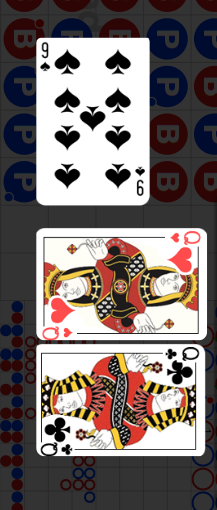9S: (134, 164, 147, 197), (40, 41, 52, 74)
QC: (36, 411, 83, 455), (157, 344, 203, 388)
